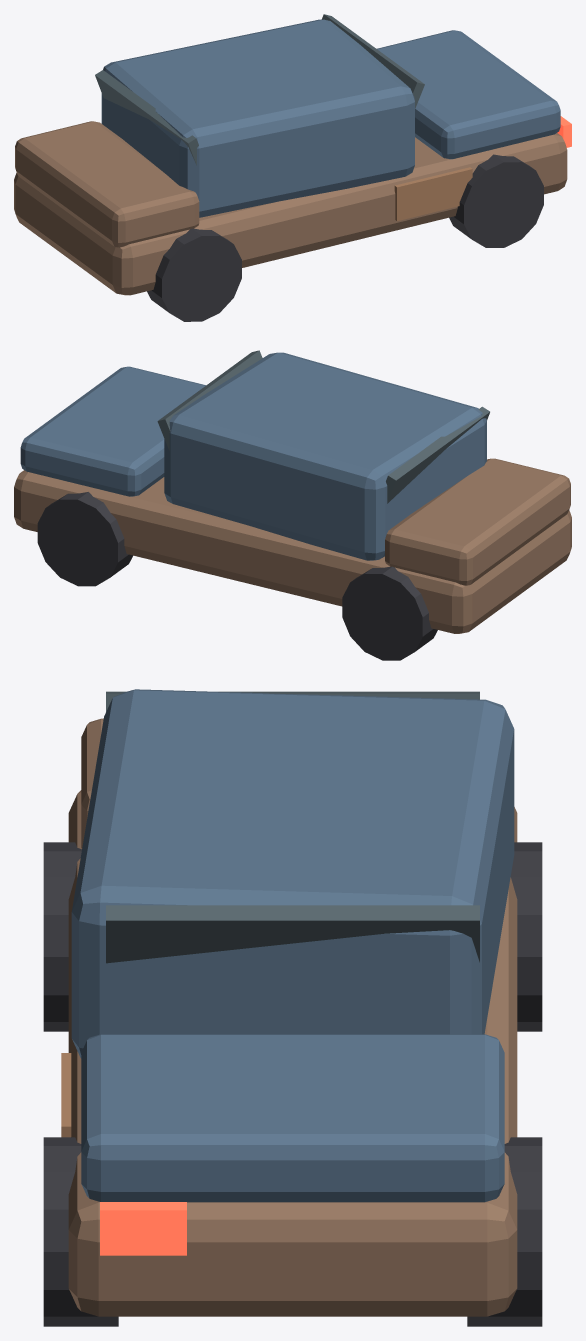
The model's file is prop_car_wreck.glb.
3 renders of one model, top to bottom at view 1: azimuth 30°, elevation 25°; view 2: azimuth 150°, elevation 25°; view 3: azimuth 270°, elevation 25°, orthographic. The views are drawn at different scales.
Visible parts, largest first — view 1: prop_car_wreck; view 2: prop_car_wreck; view 3: prop_car_wreck.
Boxes of the visible parts, x1=… form: prop_car_wreck: x1=14, y1=14, x2=571, y2=321; prop_car_wreck: x1=14, y1=350, x2=571, y2=660; prop_car_wreck: x1=43, y1=689, x2=542, y2=1326.
Bounding box in the file's own units: 4.26 × 1.53 × 2.
